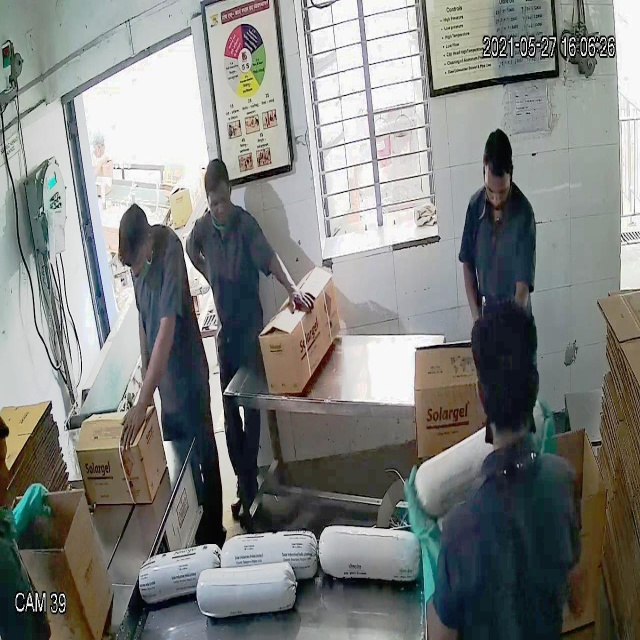Sin_gafas: (483, 173, 516, 206)
